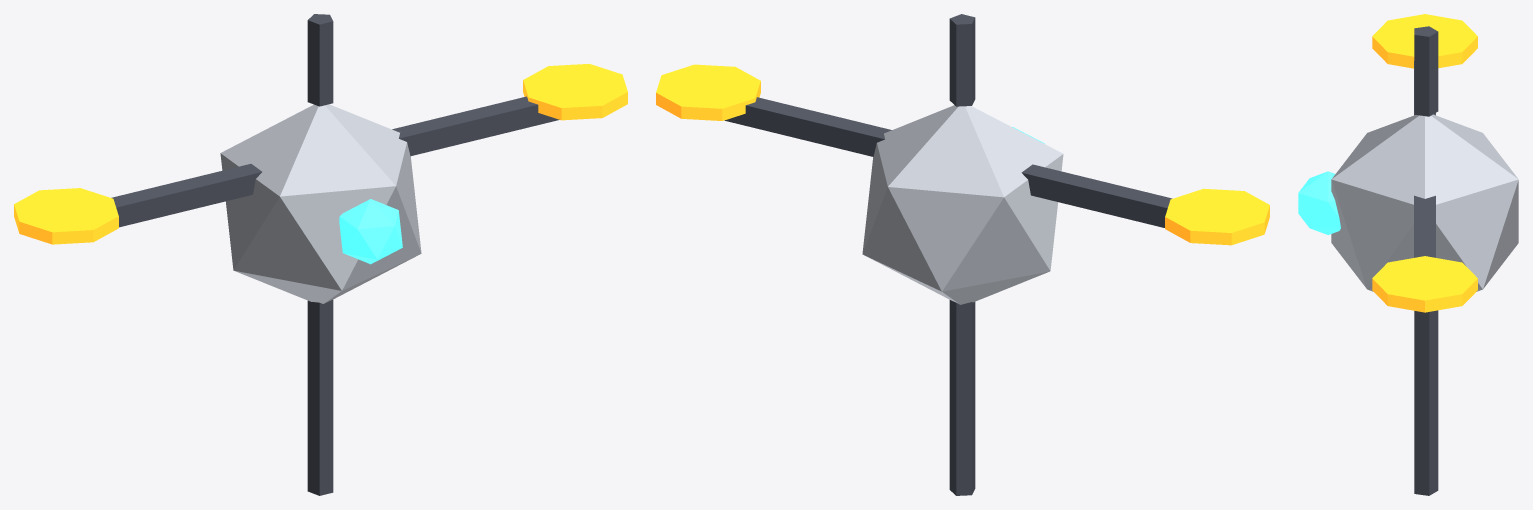
File: stationpack-drone-bot.glb
3 renders of one model, left to right at view 1: azimuth 30°, elevation 25°; view 2: azimuth 150°, elevation 25°; view 3: azimuth 270°, elevation 25°, orthographic. The views are drawn at different scales.
Parts seen in each view (by area): view 1: drone_bot; view 2: drone_bot; view 3: drone_bot.
Part boxes in pixels (left/top/right/bottom): drone_bot: left=14, top=14, right=627, bottom=495; drone_bot: left=656, top=14, right=1269, bottom=495; drone_bot: left=1298, top=14, right=1518, bottom=495.
Bounding box in the file's own units: 1.54 × 1.15 × 0.5007.
